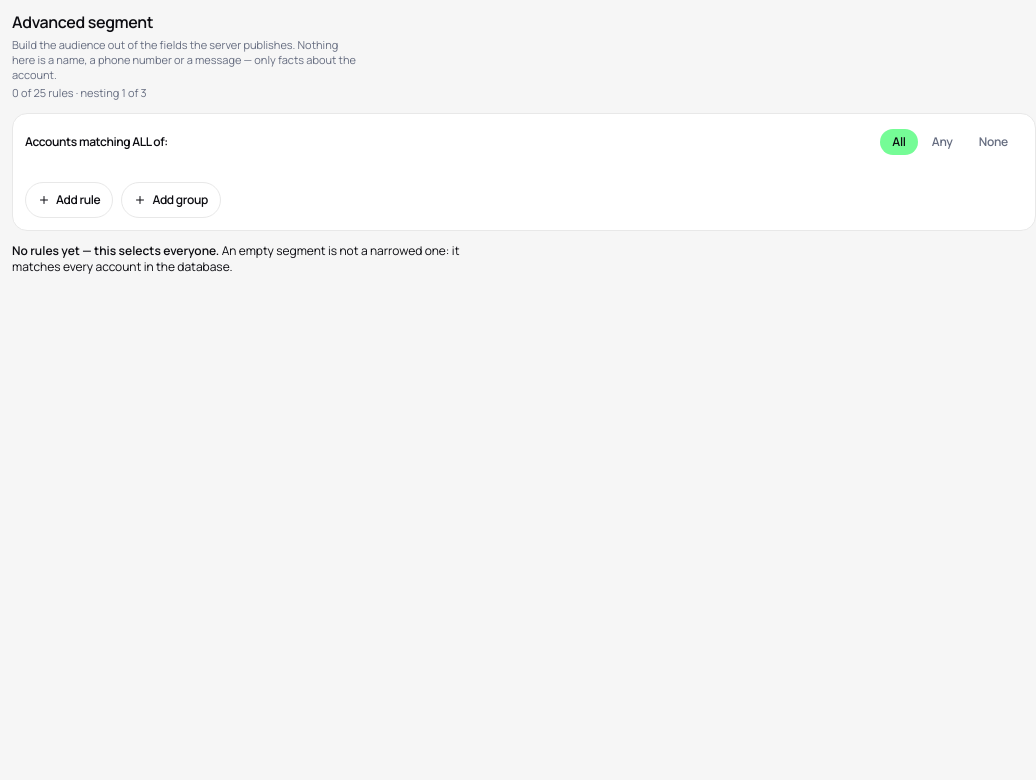
Scenario: SegmentBuilder — what the registry is allowed to decide › renders the field's own doc verbatim rather than a paraphrase
Step 1. Click the button "Add rule" → (69,200), box [25,182,113,218]
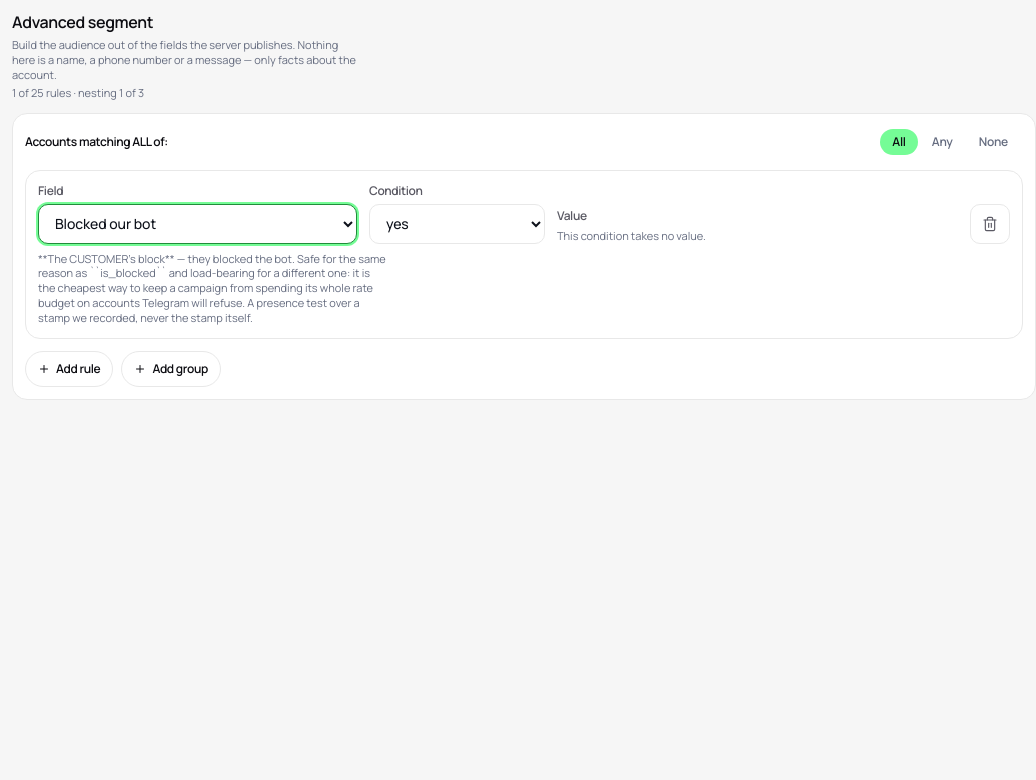
Step 2. Select "Plan status" in the dropdown labelled "Field" → (198,224), box [38,204,357,244]
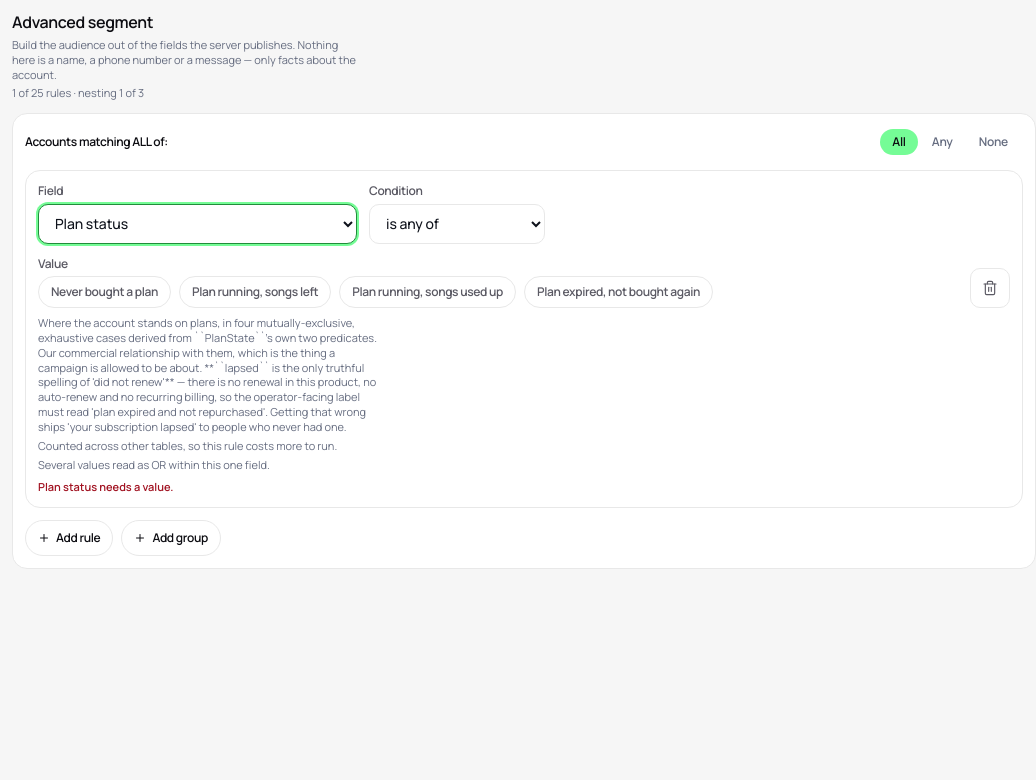
Check: the text "Where the account stands on plans, in four mutually-exclusive, exhaustive cases derived from ``PlanState``'s own two pre" is shown, box [38,315,377,434]
